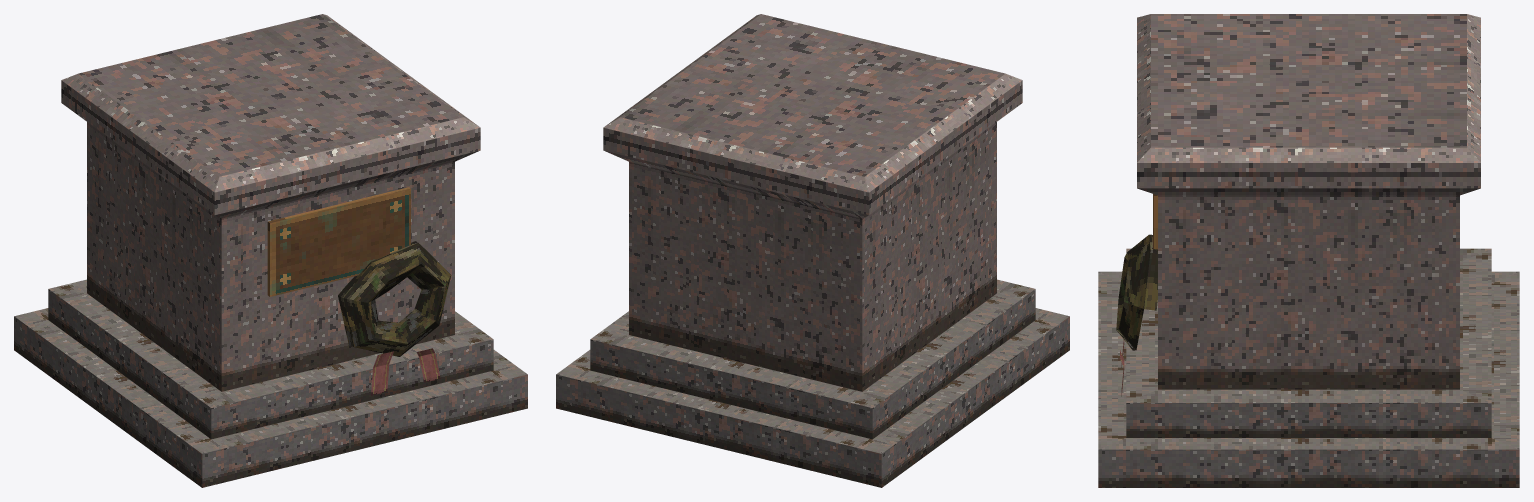
File: env_statue_pedestal.glb
3 views of the same model, side by side, from view 1: azimuth 30°, elevation 25°; view 2: azimuth 150°, elevation 25°; view 3: azimuth 270°, elevation 25° (orthographic). The views are drawn at different scales.
Visible parts, largest first — view 1: env_statue_pedestal; view 2: env_statue_pedestal; view 3: env_statue_pedestal.
Boxes of the visible parts, x1,y1,x2,y2 form: env_statue_pedestal: (14, 14, 527, 487); env_statue_pedestal: (556, 14, 1069, 487); env_statue_pedestal: (1098, 14, 1519, 487).
Size of the model in its own units: 0.006 by 0.005 by 0.006.
1 material, 1 textured.
